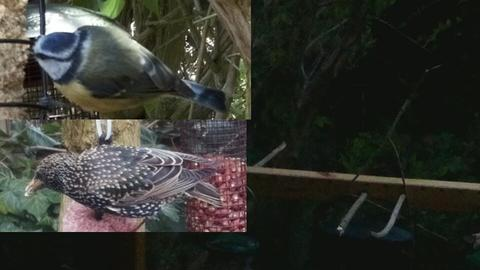blue tit: (25, 25, 226, 114)
starling: (25, 144, 222, 220)
